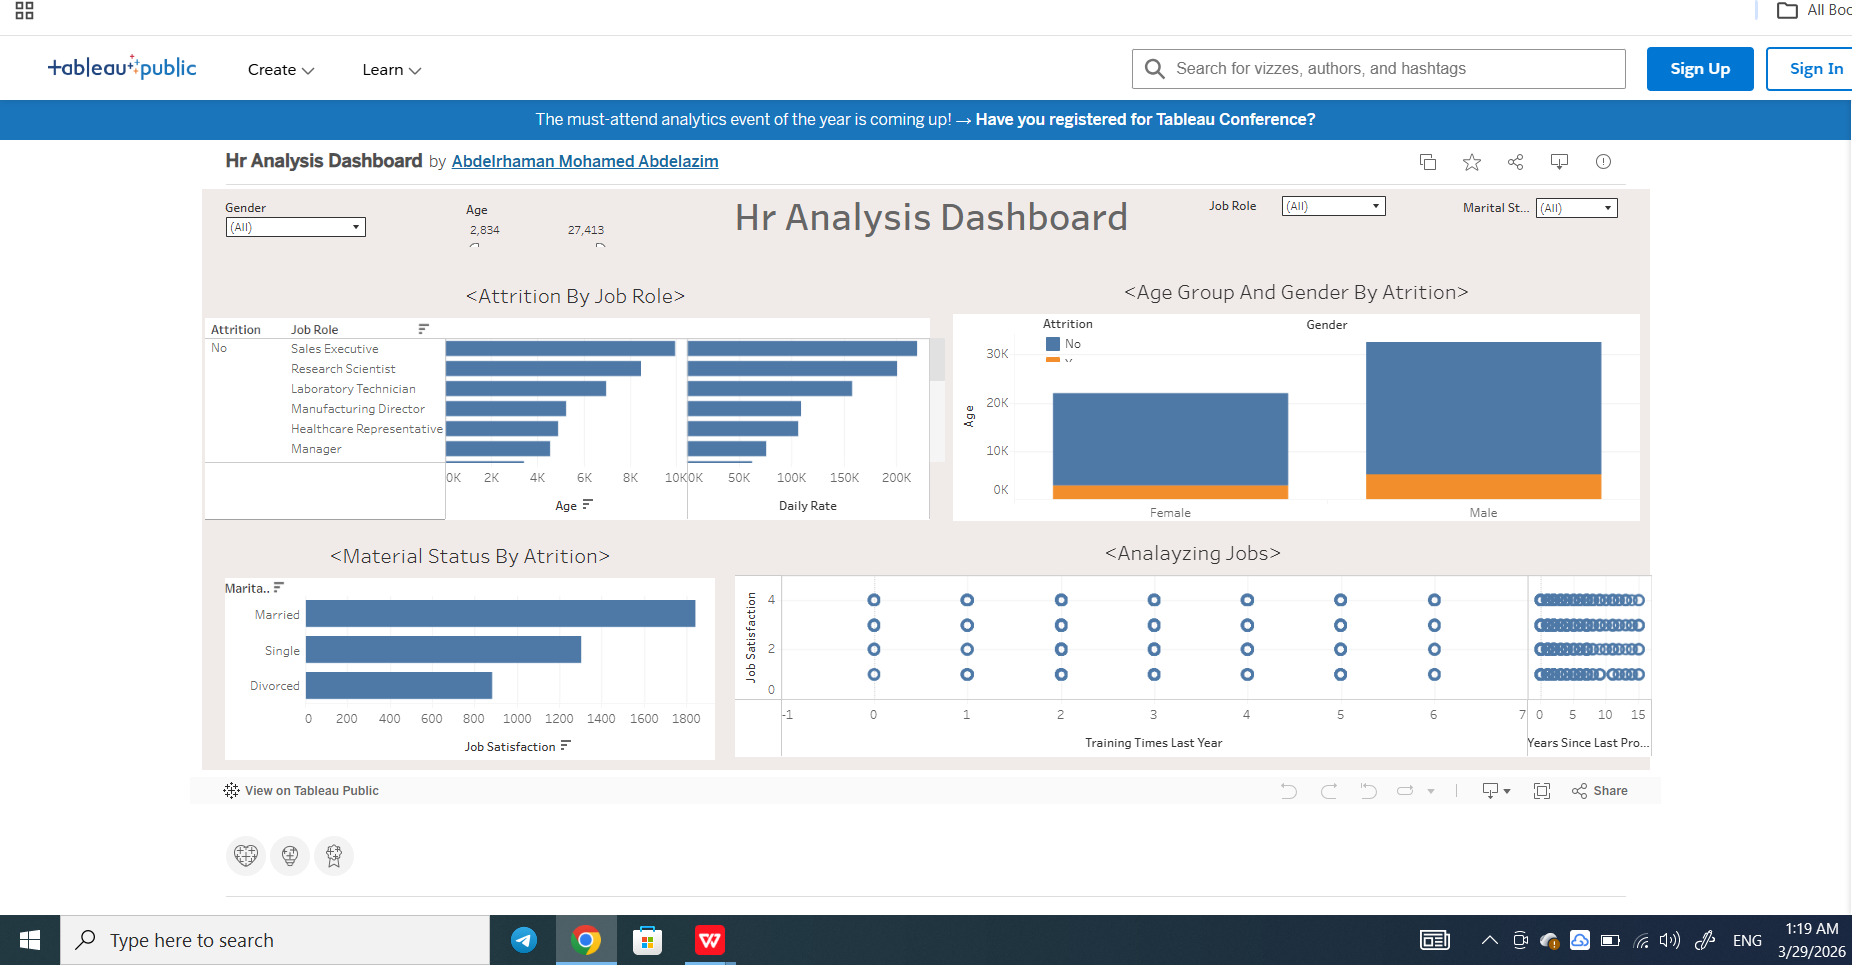

This screenshot's page, from the dashboard's own definition file:
{"tool":"tableau","page":{"name":"Dashboard 1","canvas":[1000,1000],"units":"permille","ordinal":0},"visuals":[{"type":"text","box":[18.1,9.9,971.6,80.2]},{"type":"filter","title":"Sheet 2","param":"[federated.0dtdw1r1unrfv210i80x405zpd63].[none:JobRole:nk]","box":[692.8,18.5,120.7,64.1]},{"type":"filter","title":"Sheet 3","param":"[federated.0dtdw1r1unrfv210i80x405zpd63].[none:Gender:nk]","box":[23.5,22.2,96.6,69]},{"type":"filter","title":"Sheet 4","param":"[federated.0dtdw1r1unrfv210i80x405zpd63].[none:MaritalStatus:nk]","box":[865.4,22.2,106.2,64.1]},{"type":"filter","title":"Sheet 3","param":"[federated.0dtdw1r1unrfv210i80x405zpd63].[sum:Age:qk]","box":[187.7,24.7,96.6,80.2]},{"type":"worksheet","title":"Sheet 3","mark":"Automatic","rows":["Age"],"cols":["Gender"],"box":[519,145.5,466.5,421.7]},{"type":"worksheet","title":"Sheet 2","mark":"Automatic","rows":["Attrition","JobRole"],"cols":["Age","DailyRate"],"box":[10.3,151.7,505.1,414.3]},{"type":"legend","title":"Sheet 3","param":"[federated.0dtdw1r1unrfv210i80x405zpd63].[none:Attrition:nk]","box":[580,219.5,84.5,78.9]},{"type":"worksheet","title":"Sheet 5","mark":"Automatic","rows":["JobSatisfaction"],"cols":["TrainingTimesLastYear","YearsSinceLastPromotion"],"box":[370.6,586.9,623.4,379.8]},{"type":"worksheet","title":"Sheet 4","mark":"Automatic","rows":["MaritalStatus"],"cols":["JobSatisfaction"],"box":[23.5,591.9,333.1,379.8]}]}

Visuals, with their boxes on the dashboard's canvas, which has no fixed pixel size, in thousandths of its width and height (x1, y1, x2, y2). These are canvas units, not pixel positions in the 1852x965 screenshot, which may show the page scaled, cropped or inside an application window:
text: detection(18, 10, 990, 90)
"Sheet 2" filter: detection(693, 18, 814, 83)
"Sheet 3" filter: detection(24, 22, 120, 91)
"Sheet 4" filter: detection(865, 22, 972, 86)
"Sheet 3" filter: detection(188, 25, 284, 105)
"Sheet 3" worksheet: detection(519, 146, 986, 567)
"Sheet 2" worksheet: detection(10, 152, 515, 566)
"Sheet 3" legend: detection(580, 220, 664, 298)
"Sheet 5" worksheet: detection(371, 587, 994, 967)
"Sheet 4" worksheet: detection(24, 592, 357, 972)
